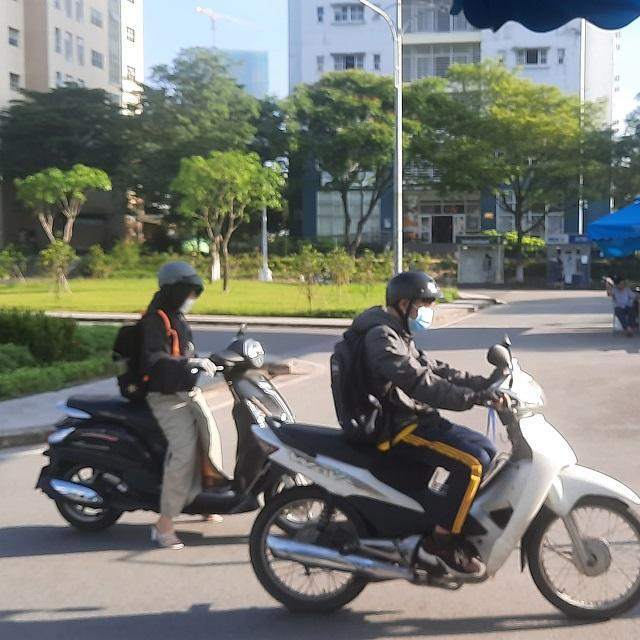Helmet: (383, 273, 445, 331), (156, 258, 207, 308)
